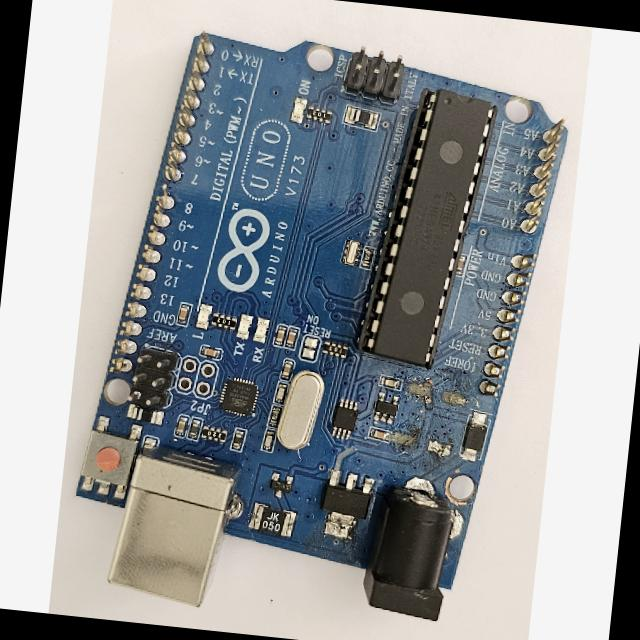missing_analog_pins: (466, 112, 573, 408)
missing_capacitors: (382, 377, 472, 468)
missing_digital_pins: (101, 27, 221, 379)
